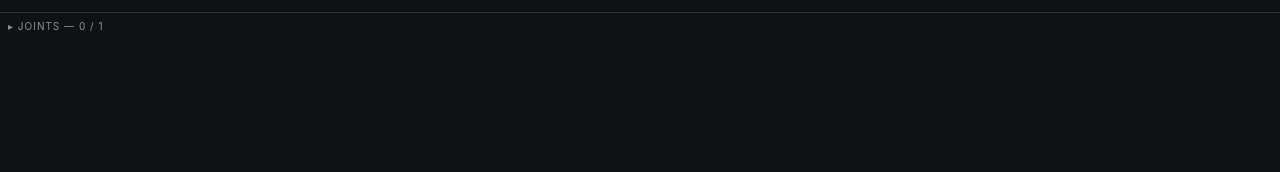
it: an arrow appears only on a kind duplicated within the pair
Click the button "▸ Joints — 0 / 1".
click(46, 26)  # box [8, 13, 1272, 40]
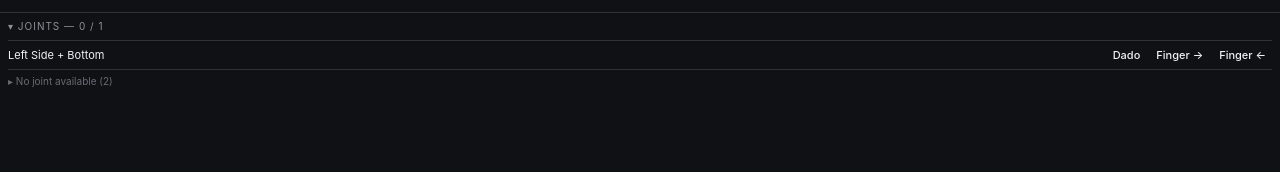
Result: the button "Dado" is shown at [1107, 43, 1146, 67]
Result: the button "Finger →" is shown at [1150, 43, 1209, 67]
Result: the button "Finger ←" is shown at [1213, 43, 1272, 67]
